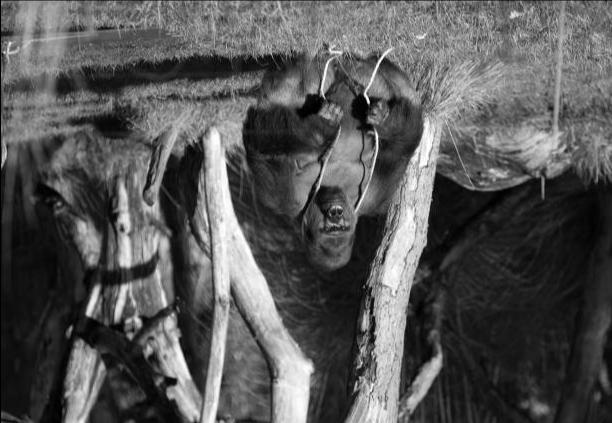gorille_Autres: (231, 55, 422, 282)
